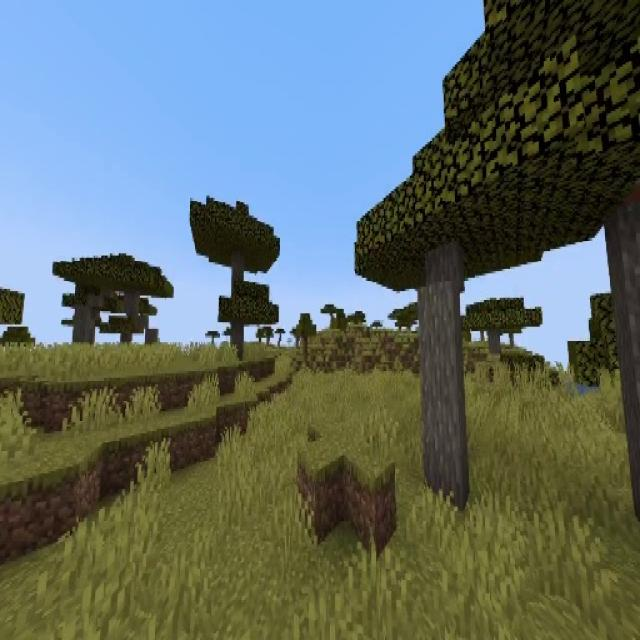acacia: (349, 50, 639, 506), (190, 197, 279, 359), (51, 253, 176, 348), (466, 294, 542, 361)
acacia_log: (421, 245, 469, 506), (74, 306, 89, 346), (125, 289, 138, 316), (489, 329, 501, 354), (136, 314, 148, 330), (146, 328, 156, 346)
oak: (295, 312, 317, 354)
